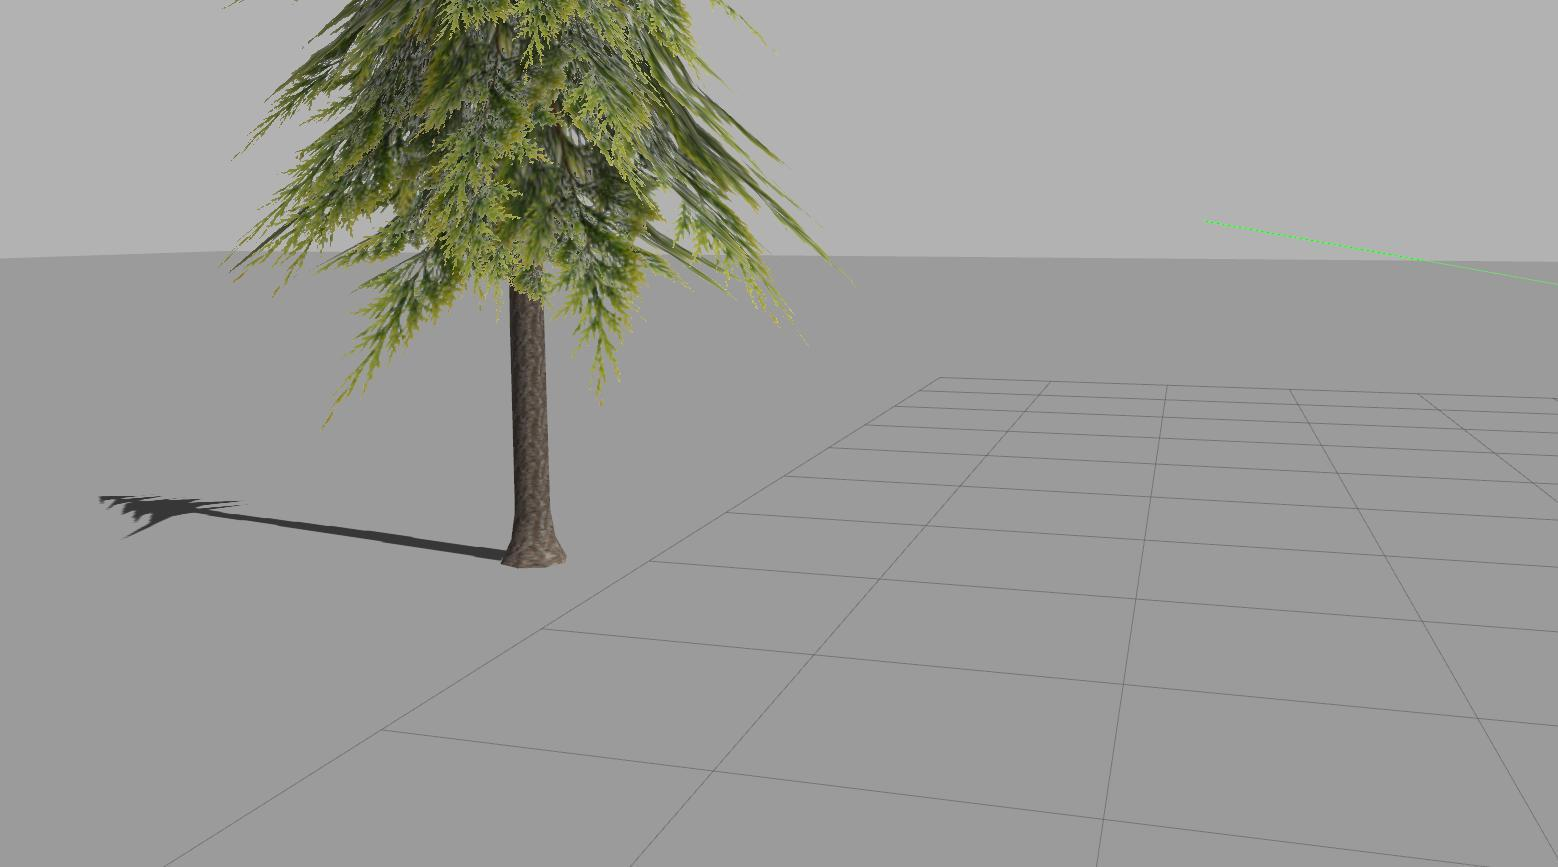tree_gazebo: (232, 0, 825, 569)
